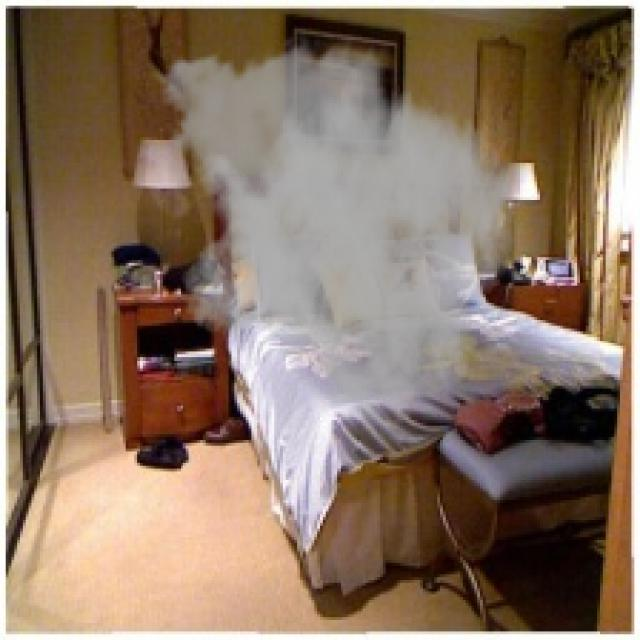smoke: (146, 31, 517, 426)
